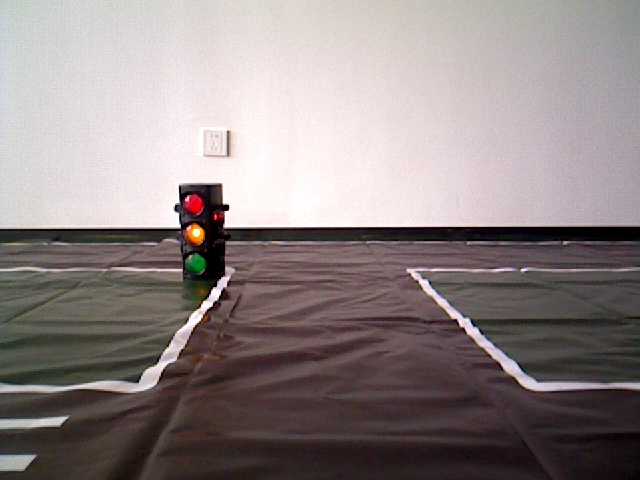yellow: (178, 182, 225, 283)
